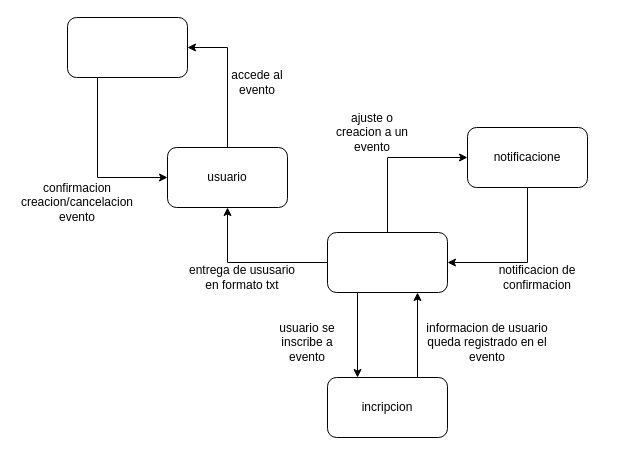
Some shapes in this 624 by 455 pixel diagram are drawn without their labels. The shapes that lost their labels are listed below. From the top down, each one's centre as x and y in pixels, then its label:
At [127,47]: "evento".
At [387,262]: "EnventSync".
